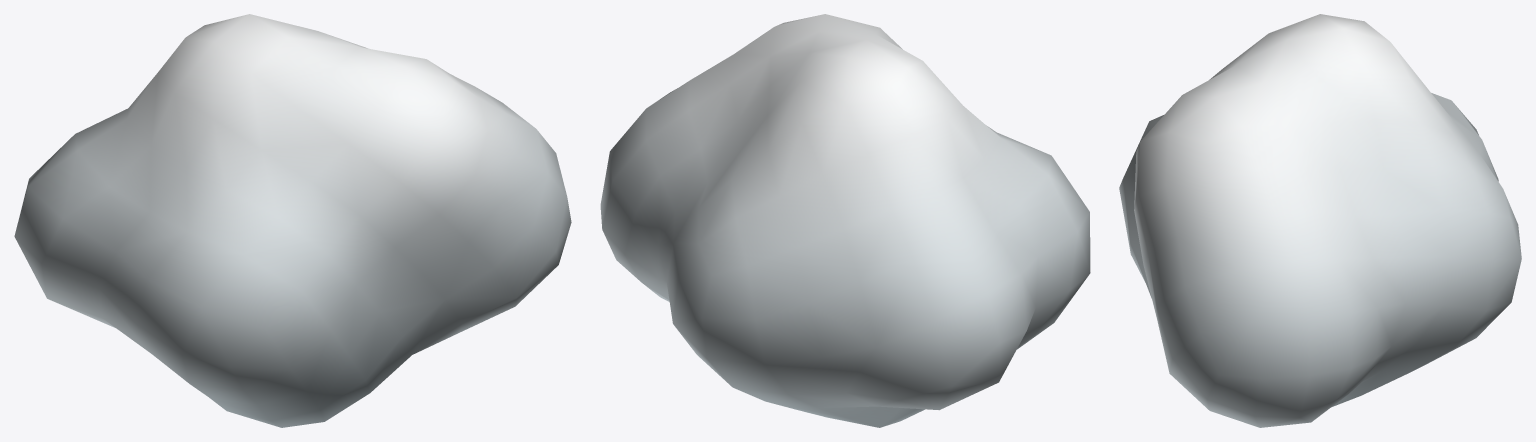
Rendered from kk_cloud_small.glb.
3 views of the same model, side by side, from view 1: azimuth 30°, elevation 25°; view 2: azimuth 150°, elevation 25°; view 3: azimuth 270°, elevation 25° (orthographic). The views are drawn at different scales.
Parts seen in each view (by area): view 1: cloud_small; view 2: cloud_small; view 3: cloud_small.
Part boxes in pixels (bbox=[...]): cloud_small: bbox=[14, 14, 571, 427]; cloud_small: bbox=[600, 14, 1090, 427]; cloud_small: bbox=[1119, 14, 1521, 427].
Size of the model in its own units: 2.34 by 1.84 by 1.79.
Materials: 1 (1 with a texture image).
